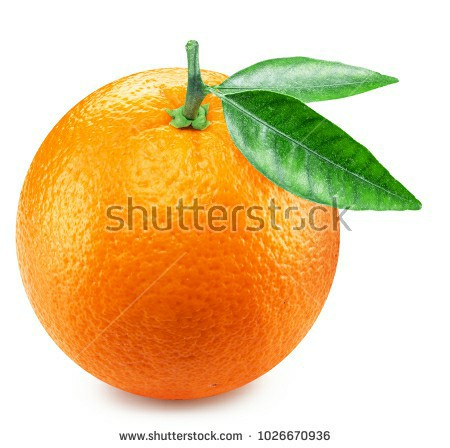fresh_orange: (17, 67, 338, 402)
